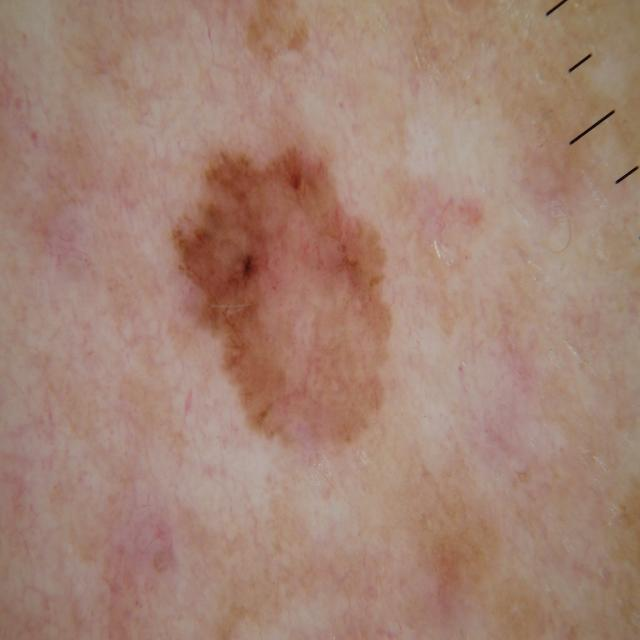Skin-Cancer Melanoma: (36, 29, 581, 640)
